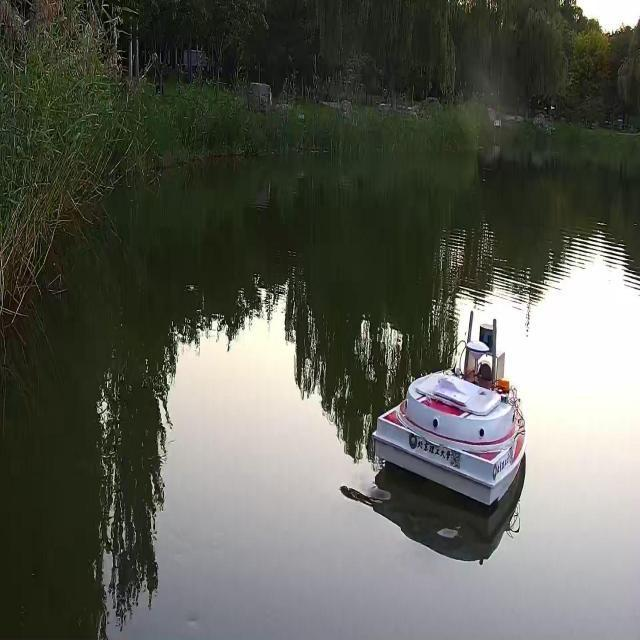ship2: (374, 328, 526, 511)
